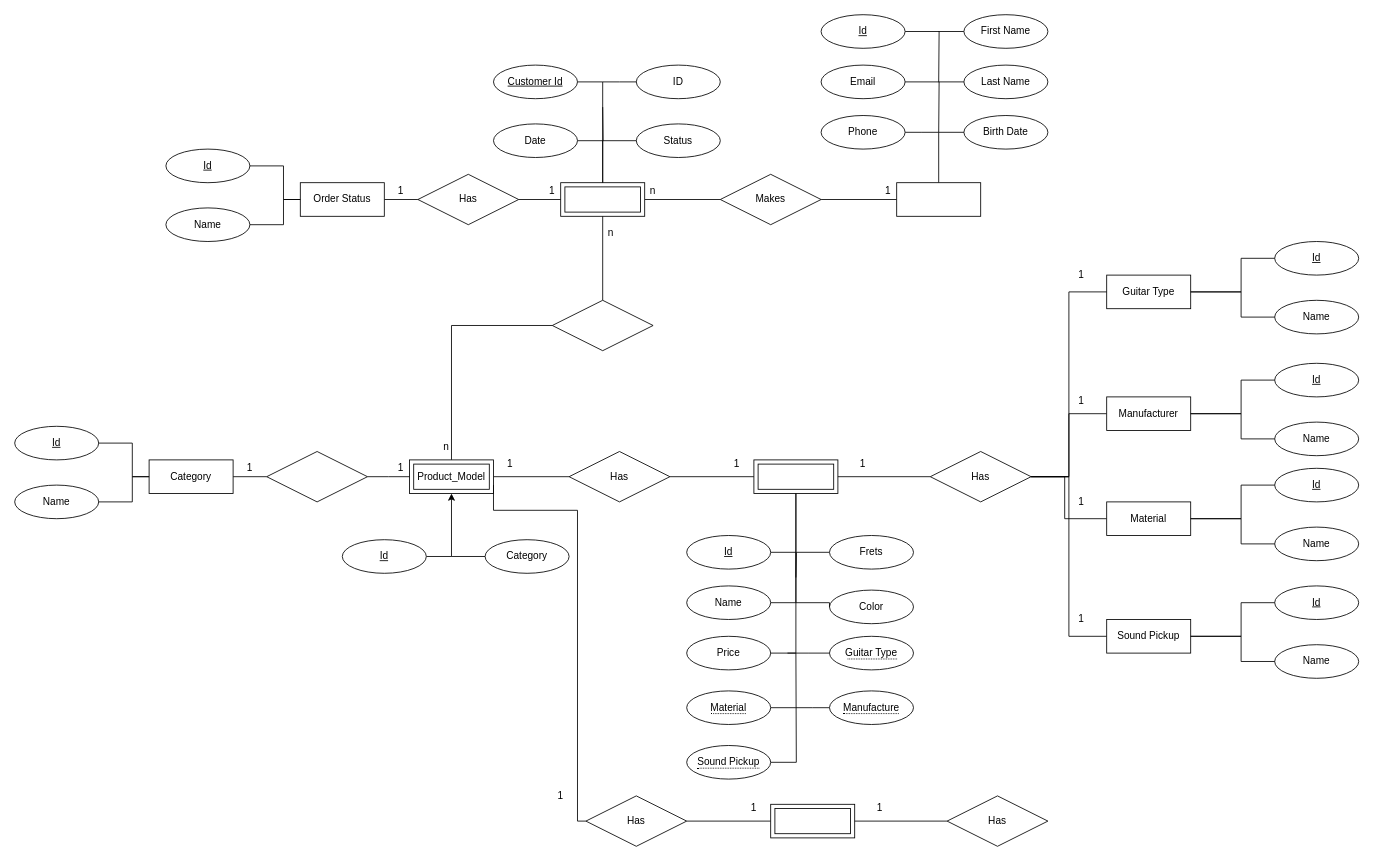
Image size: 1373x861. Some labels were removed from this diagram. The shapes that lost their labels are listed below. From the top down, each one's box as (x1, y1, x2, y2) in pixels, then its label:
(560, 182, 645, 216): Order
(896, 182, 981, 216): Customer
(551, 299, 653, 351): Contains
(266, 451, 368, 502): Relates to
(753, 459, 838, 494): Guitar Model
(770, 803, 855, 838): Synthesizer Model
